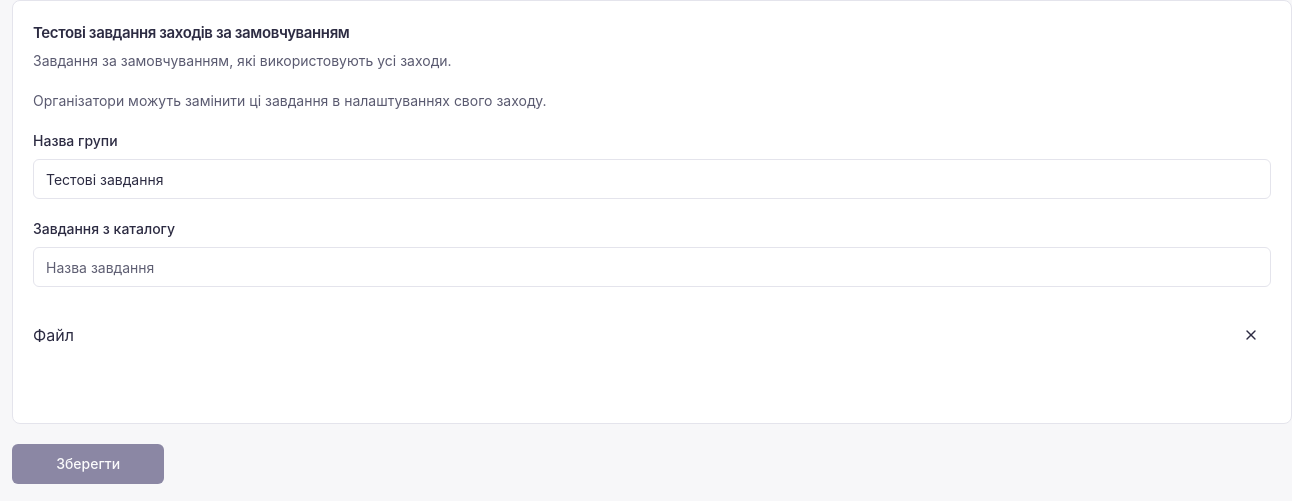
Test case: shows no permanent catalog list and opens the dropdown on input
Type "Серв" into the dropdown at (652, 267), box [33, 247, 1271, 287]
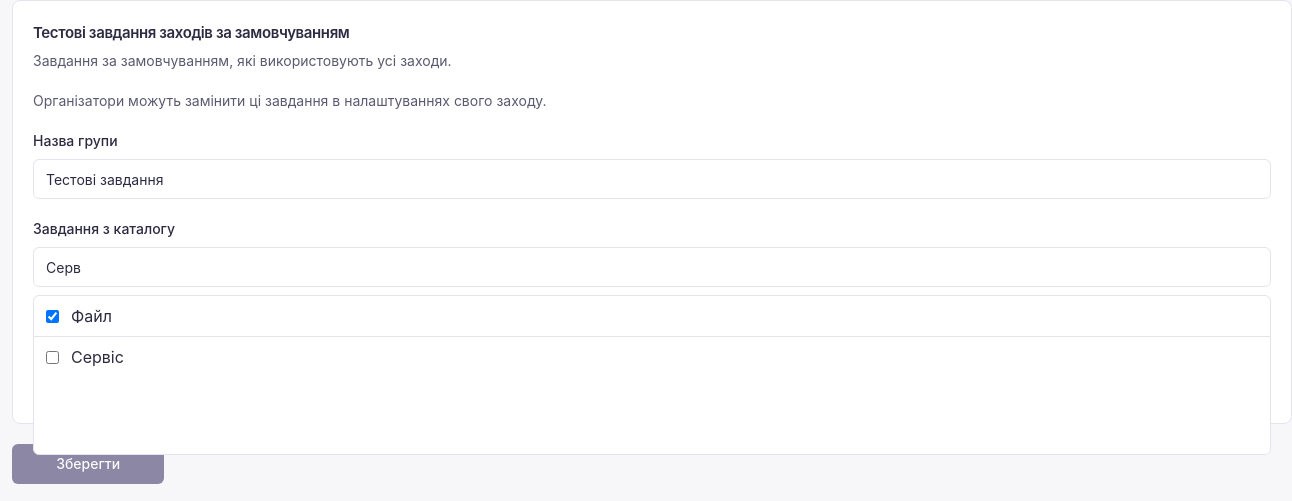
Result: the list "Файл Сервіс" is shown at [33, 295, 1271, 455]
Result: the checkbox labelled "Сервіс" is shown at [46, 350, 59, 364]
